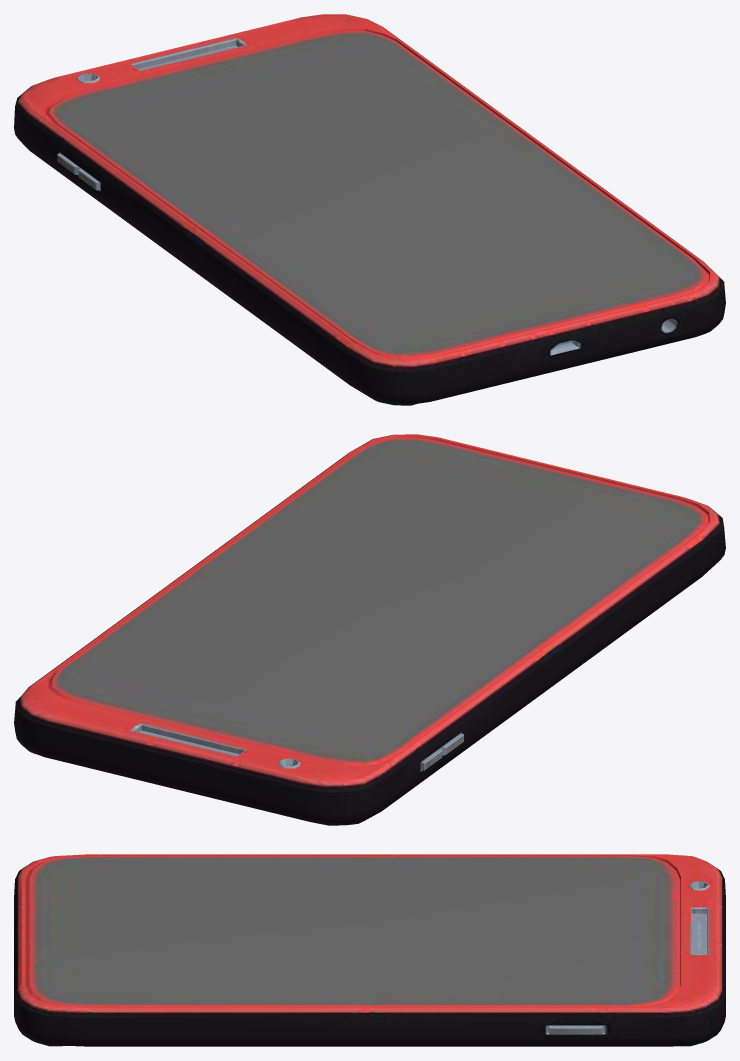
3 renders of one model, top to bottom at view 1: azimuth 30°, elevation 25°; view 2: azimuth 150°, elevation 25°; view 3: azimuth 270°, elevation 25°, orthographic. The views are drawn at different scales.
Visible parts, largest first — view 1: PhoneLP; view 2: PhoneLP; view 3: PhoneLP.
Part boxes in pixels (left/top/right/bottom): PhoneLP: left=14, top=14, right=725, bottom=405; PhoneLP: left=14, top=434, right=725, bottom=825; PhoneLP: left=14, top=854, right=725, bottom=1046.
Bounding box in the file's own units: 1.09 × 0.148 × 2.
Materials: 1 (1 with a texture image).
